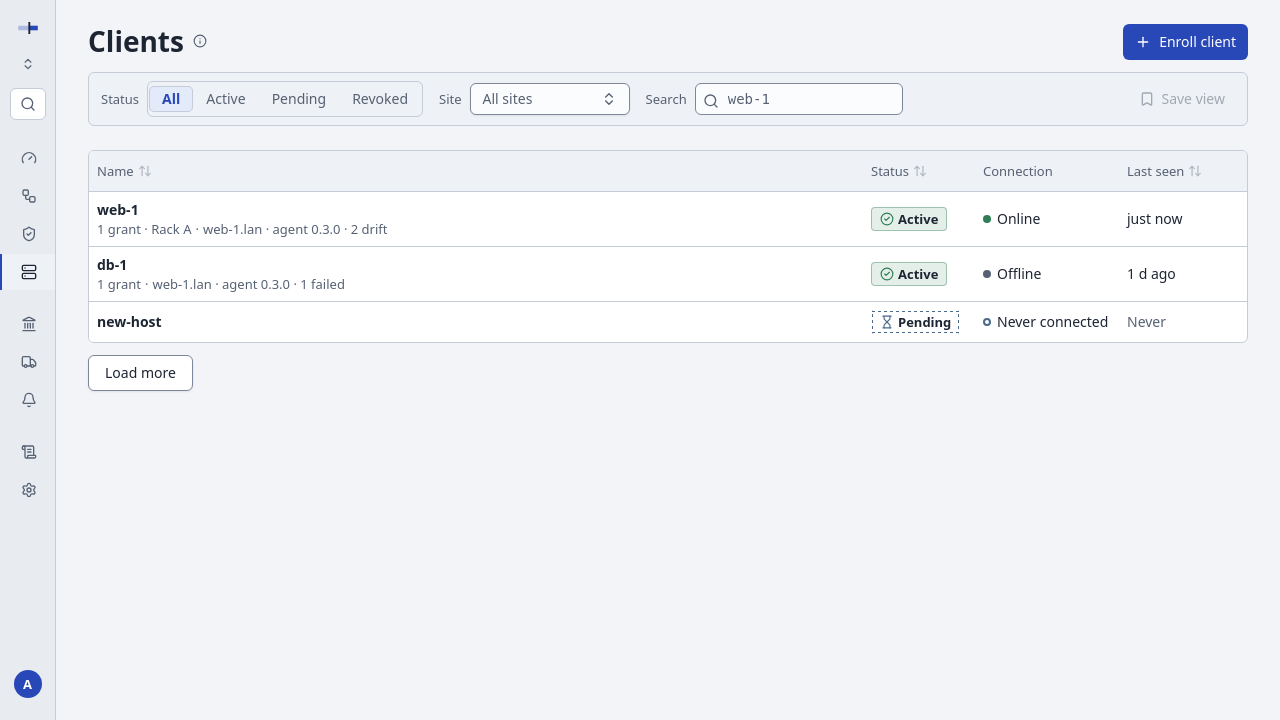
stale cursor: resets to the first page
Click the button "Load more".
click(140, 372)  # box [88,354,193,390]
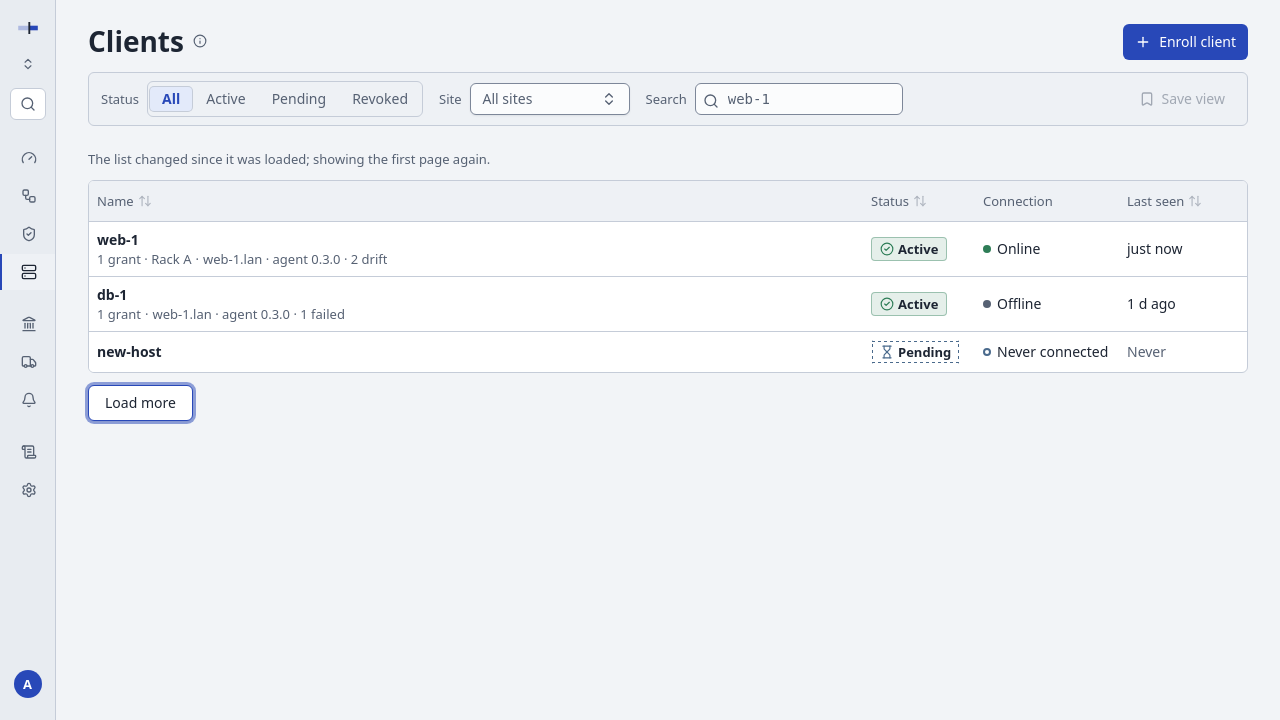
Check: the text "web-1" is shown, box [97,230,855,250]
Check: the text "The list changed since it was loaded; showing the first page again." is shown, box [88,150,490,168]
